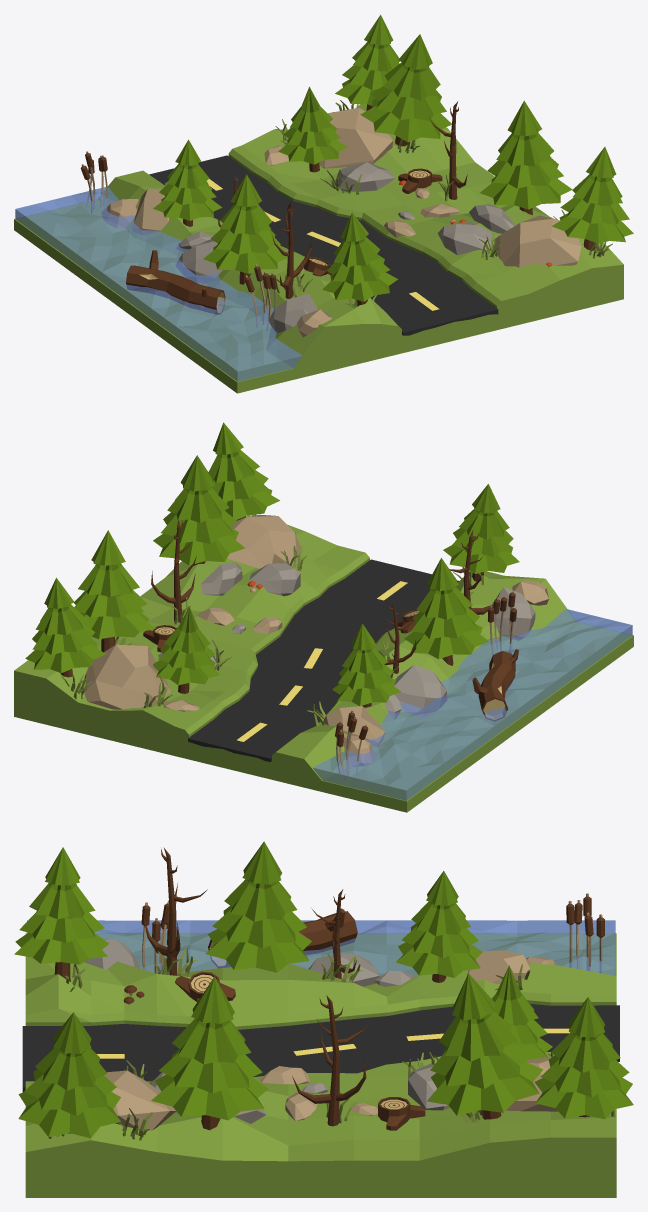
File: Forest_Road_Scene2.fbx
The picture shows the model from 3 angles, top to bottom: view 1: azimuth 30°, elevation 25°; view 2: azimuth 150°, elevation 25°; view 3: azimuth 270°, elevation 25°; orthographic projection. The views are drawn at different scales.
Visible parts, largest first — view 1: Forest_Road_Scene2; view 2: Forest_Road_Scene2; view 3: Forest_Road_Scene2.
Boxes of the visible parts, x1=… form: Forest_Road_Scene2: x1=14, y1=14, x2=633, y2=393; Forest_Road_Scene2: x1=14, y1=422, x2=633, y2=812; Forest_Road_Scene2: x1=14, y1=841, x2=633, y2=1197.
Bounding box in the file's own units: 20.17 × 20.2 × 7.45.
